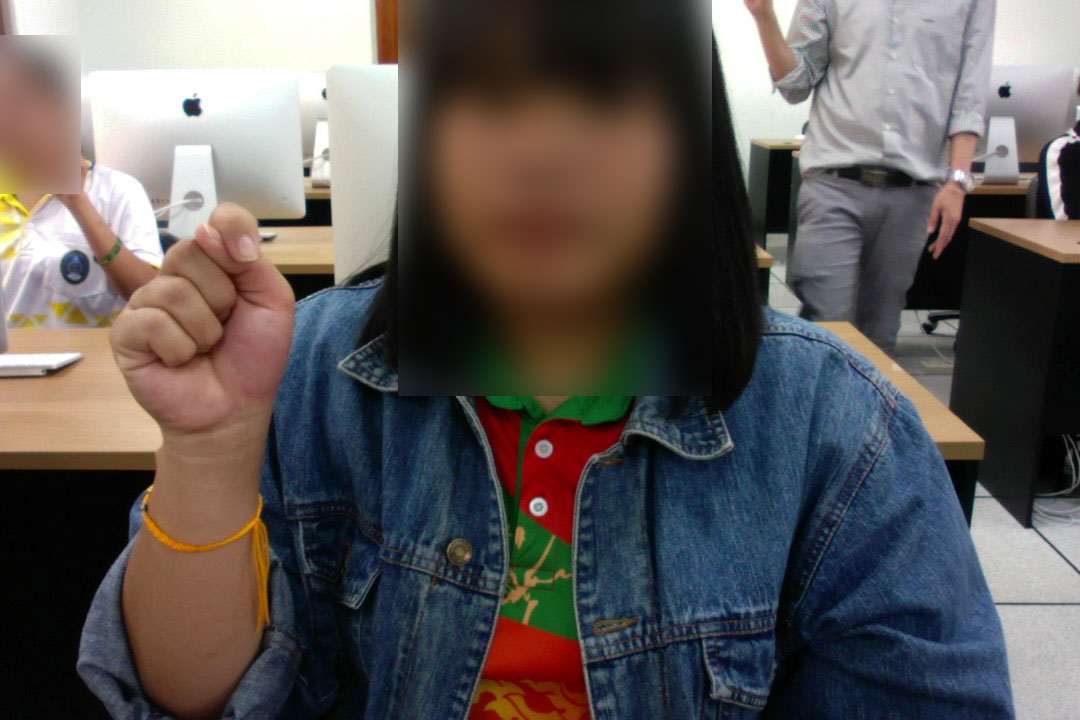tor: (96, 184, 313, 471)
